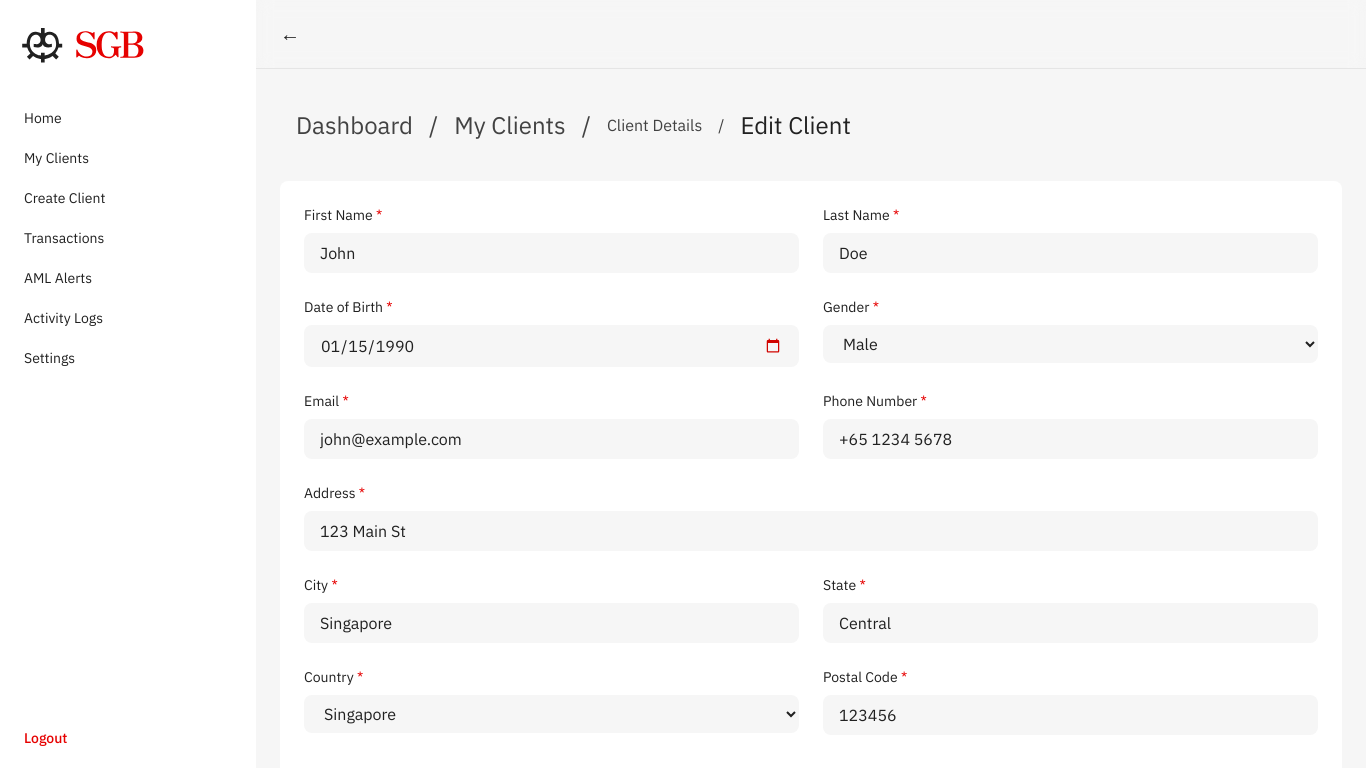
UserEditClient › should show validation errors for empty required fields
// Clear first name
Clear the field showing "John" below "First Name" at (552, 253), box [304,233,799,273]
(page scrolled)
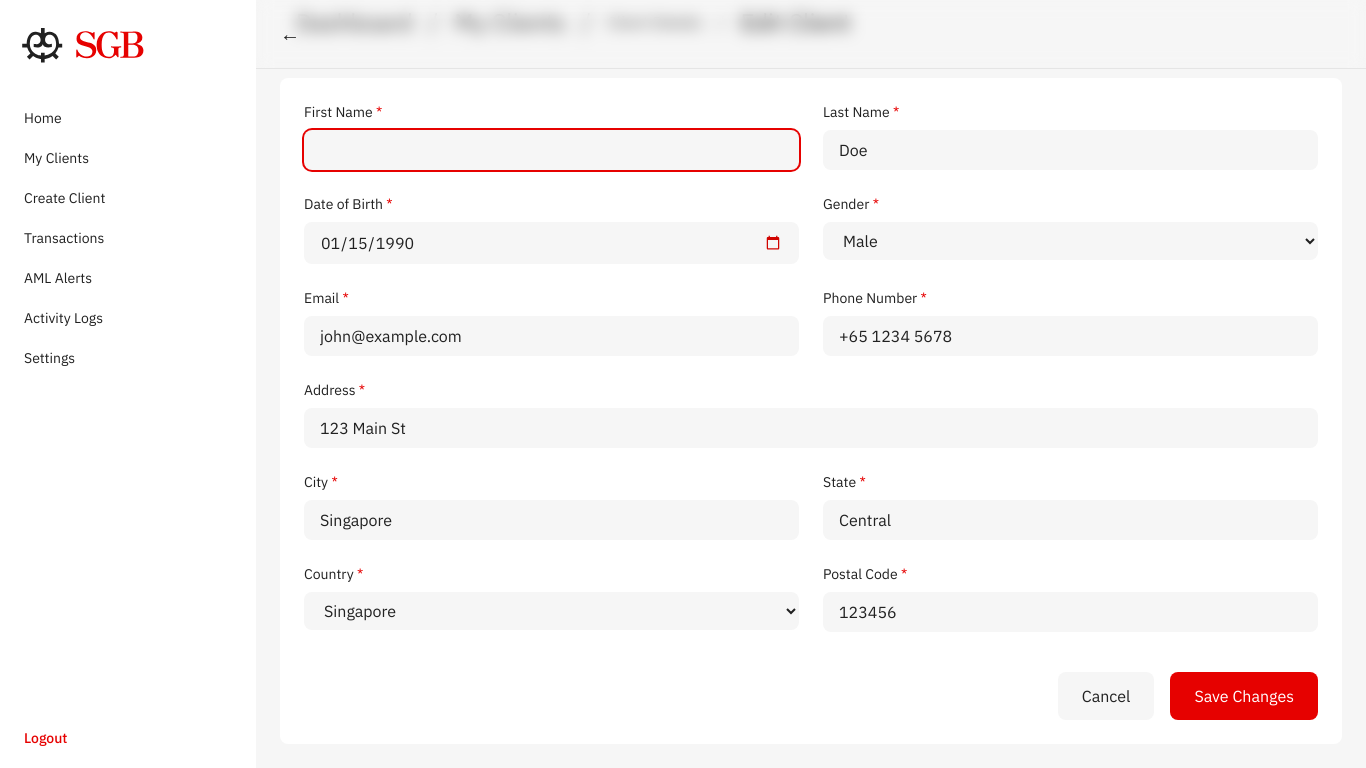
Click the button "Save Changes" at (1244, 696), box [1170,672,1318,720]
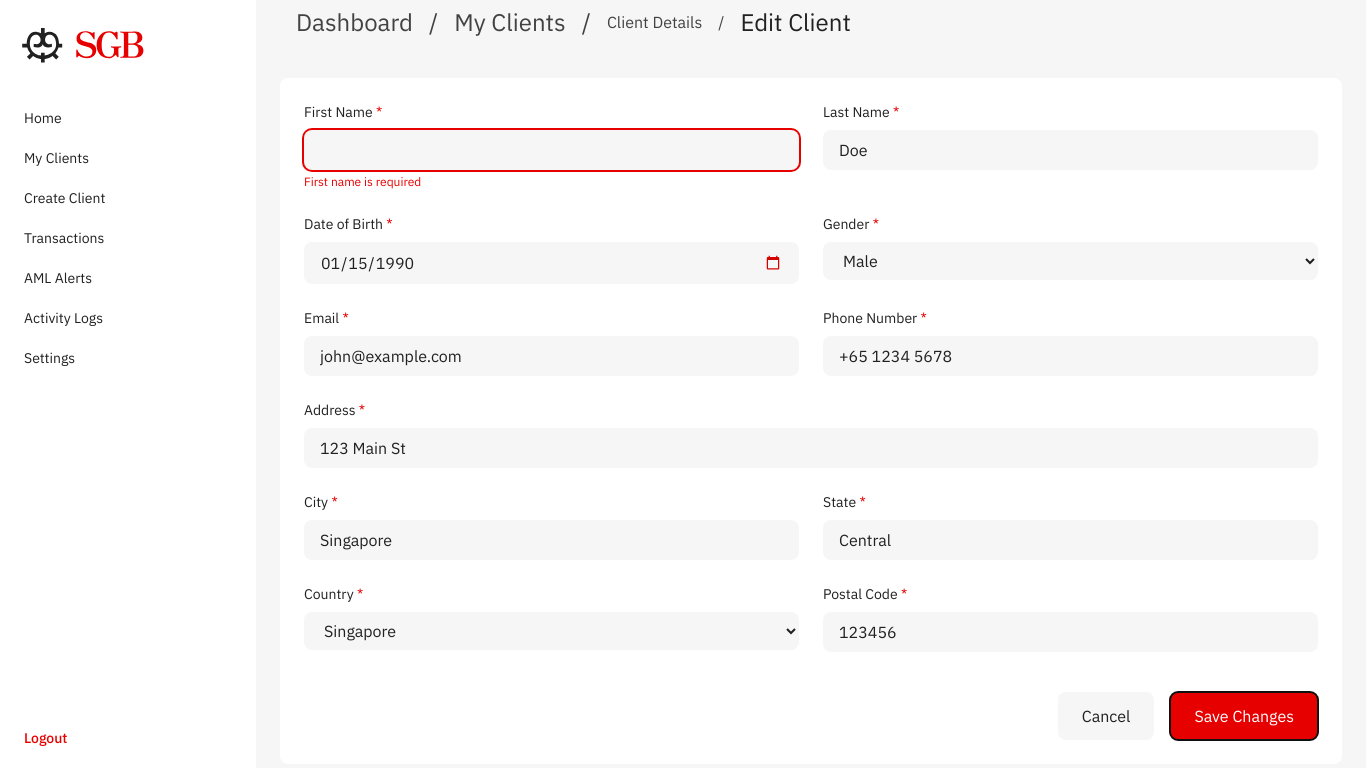
Now the text "First name is required" is shown, box [304,174,421,189]
